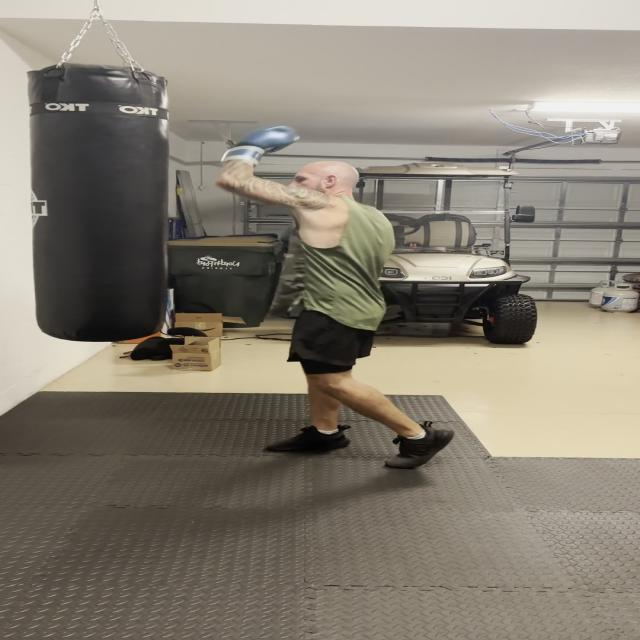bag: (17, 56, 175, 344)
uppercut: (209, 123, 389, 240)
